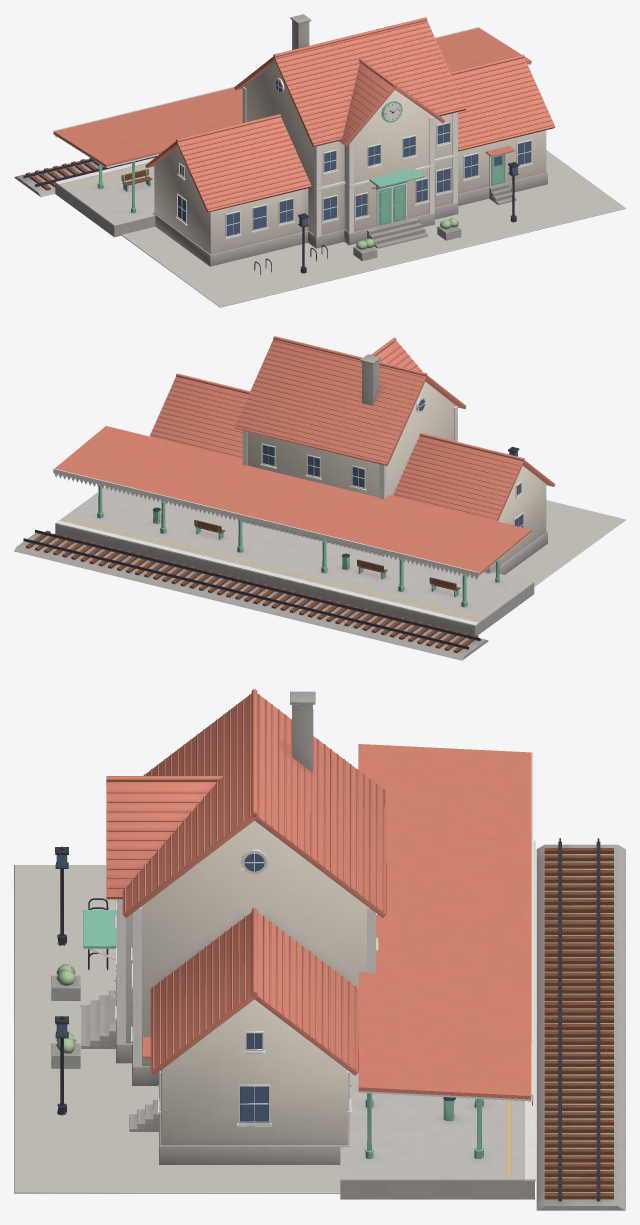
File: train-station.glb
The picture shows the model from 3 angles, top to bottom: view 1: azimuth 30°, elevation 25°; view 2: azimuth 150°, elevation 25°; view 3: azimuth 270°, elevation 25°; orthographic projection. The views are drawn at different scales.
Parts seen in each view (by area): view 1: train-station_roof, train-station_shell, train-station_body, train-station_ground_slab, train-station_facade, train-station_valance; view 2: train-station_body, train-station_roof, train-station_shell, train-station_ground_slab, train-station_valance, train-station_facade; view 3: train-station_body, train-station_roof, train-station_shell, train-station_ground_slab, train-station_facade, train-station_valance.
Boxes of the visible parts, x1,y1,x2,y2 form: train-station_roof: [145, 14, 555, 212]; train-station_shell: [152, 63, 547, 266]; train-station_body: [14, 28, 531, 274]; train-station_ground_slab: [121, 150, 625, 307]; train-station_facade: [175, 78, 533, 248]; train-station_valance: [53, 26, 479, 137]; train-station_body: [14, 426, 534, 660]; train-station_roof: [149, 336, 555, 521]; train-station_shell: [244, 381, 547, 574]; train-station_ground_slab: [505, 500, 625, 586]; train-station_valance: [53, 468, 479, 579]; train-station_facade: [242, 396, 523, 555]; train-station_body: [51, 744, 625, 1210]; train-station_roof: [106, 689, 386, 1075]; train-station_shell: [116, 821, 367, 1164]; train-station_ground_slab: [14, 865, 340, 1193]; train-station_facade: [80, 849, 378, 1131]; train-station_valance: [531, 751, 533, 1105].
Size of the model in its own units: 32 by 12.6 by 22.9.
Materials: 6 (4 with a texture image).
